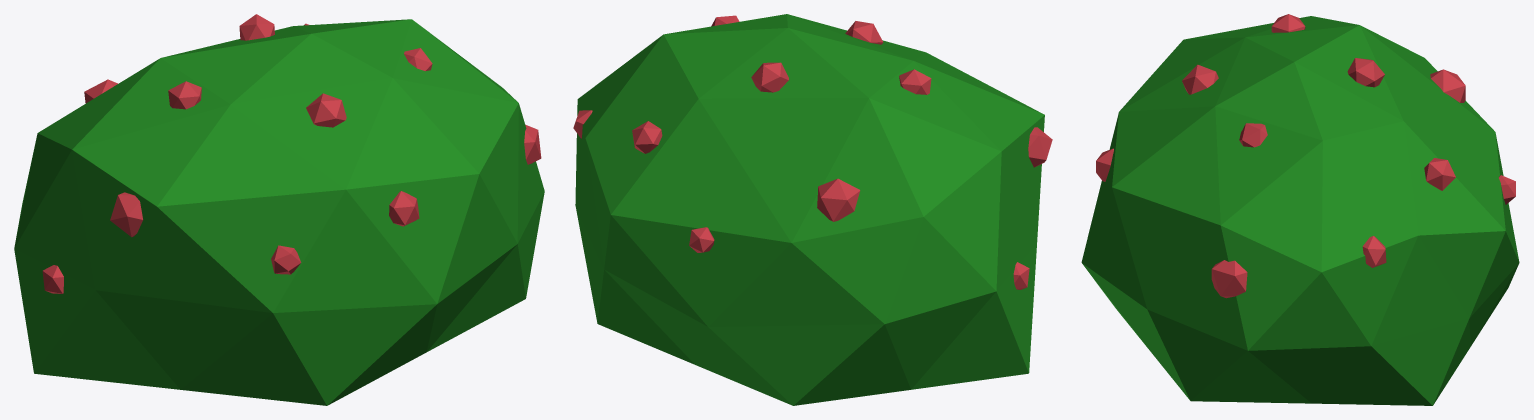
Rendered from berry-bush.fbx.
3 views of the same model, side by side, from view 1: azimuth 30°, elevation 25°; view 2: azimuth 150°, elevation 25°; view 3: azimuth 270°, elevation 25° (orthographic). The views are drawn at different scales.
Visible parts, largest first — view 1: bush, berry, berry.012, berry.006, berry.009, berry.004, berry.008, berry.010, berry.007; view 2: bush, berry.001, berry.004, berry.002, berry, berry.009, berry.012, berry.003; view 3: bush, berry.010, berry.004, berry.002, berry.001, berry.012, berry.011, berry.005, berry.009, berry.006.
Part boxes in pixels (x1,y1,x2,y2): bush: (14, 19, 544, 405); berry: (110, 192, 142, 237); berry.012: (306, 93, 346, 127); berry.006: (389, 191, 419, 226); berry.009: (168, 81, 201, 109); berry.004: (239, 14, 274, 40); berry.008: (271, 245, 301, 274); berry.010: (524, 124, 541, 164); berry.007: (42, 265, 63, 293); bush: (575, 14, 1044, 405); berry.001: (817, 178, 860, 221); berry.004: (751, 62, 788, 92); berry.002: (632, 121, 662, 153); berry: (1028, 127, 1052, 167); berry.009: (899, 69, 931, 94); berry.012: (845, 21, 883, 44); berry.003: (689, 227, 714, 252); bush: (1081, 16, 1519, 405); berry.010: (1211, 260, 1247, 298); berry.004: (1347, 58, 1384, 87); berry.002: (1424, 158, 1455, 190); berry.001: (1430, 69, 1465, 102); berry.012: (1182, 64, 1218, 94); berry.011: (1362, 236, 1386, 267); berry.005: (1239, 123, 1267, 147); berry.009: (1271, 14, 1305, 32); berry.006: (1096, 148, 1113, 181).
Size of the model in its own units: 234 by 136 by 190.
